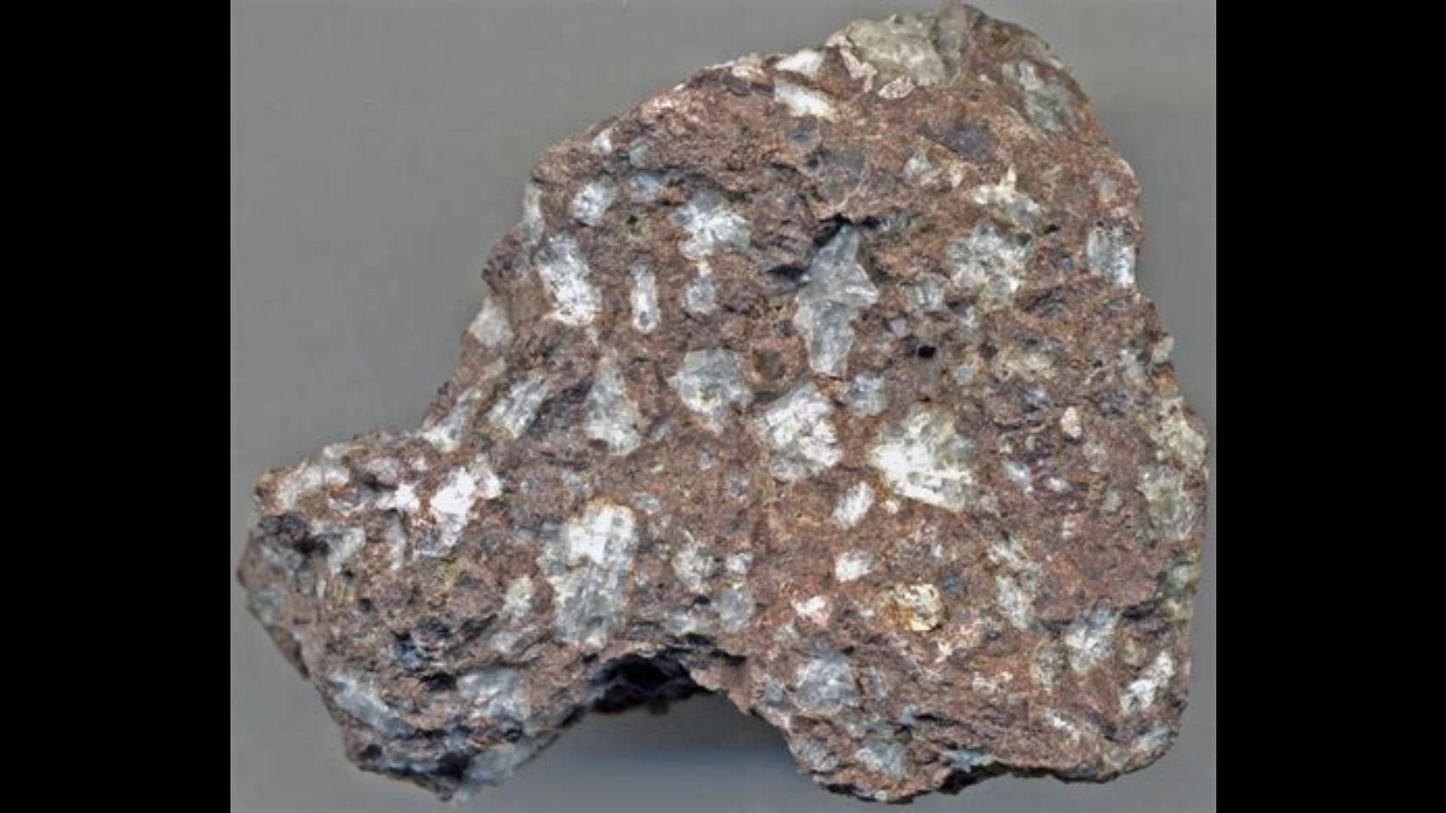rock: (238, 0, 1205, 801)
